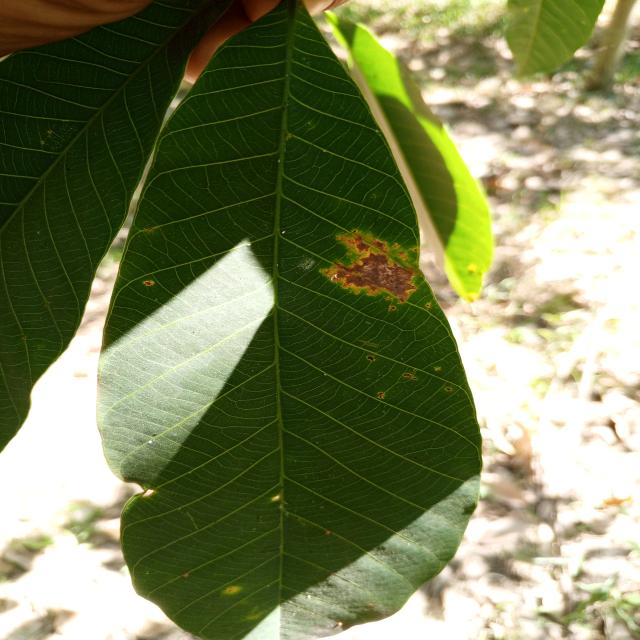Colletotrichum: (368, 356, 373, 361)
